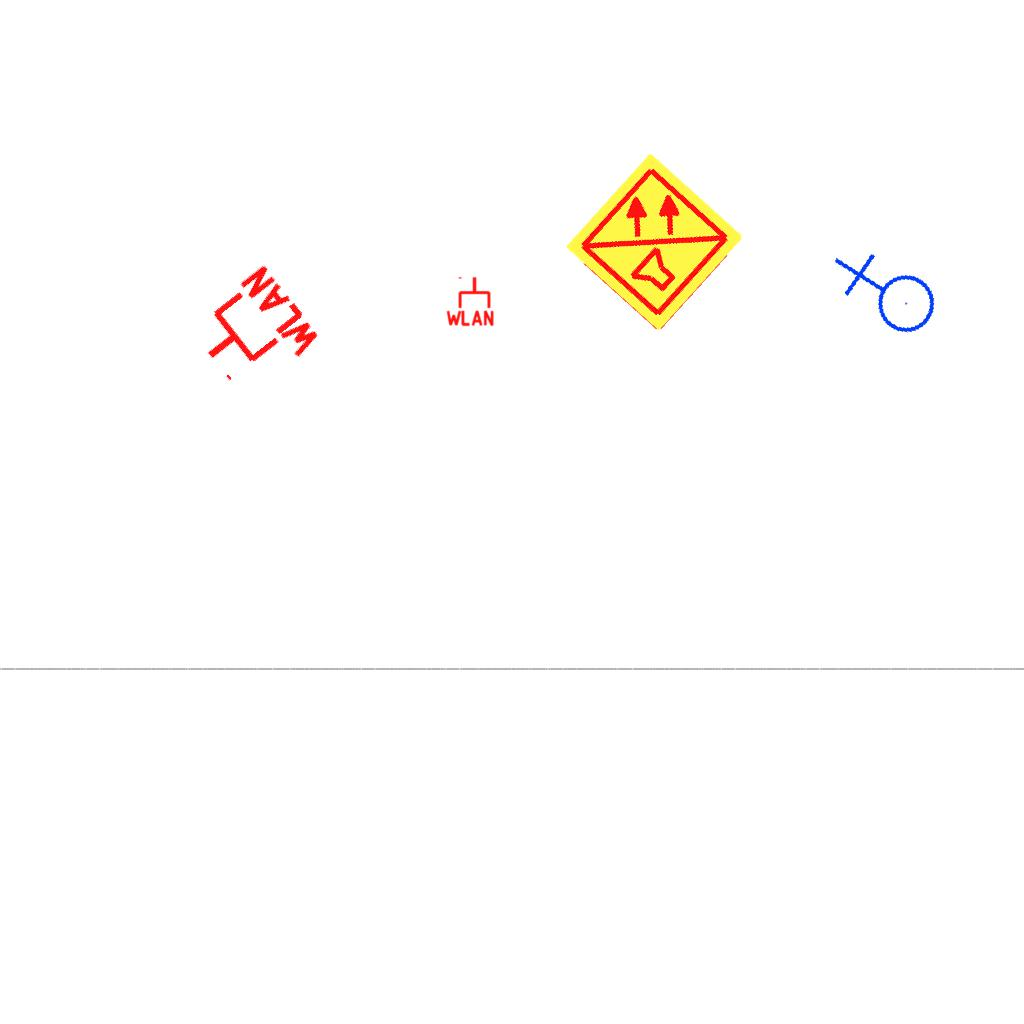Elektroanschluss_allgemein_230V_Geraeteanschlussdose_230V: (828, 236, 945, 356)
OKW_Multisensormelder_(Kombination_optischer_Rauch-Kahlenmonoxid_Waerme-Melder): (561, 148, 749, 336)
WLAN: (180, 259, 327, 407), (444, 275, 496, 327)
